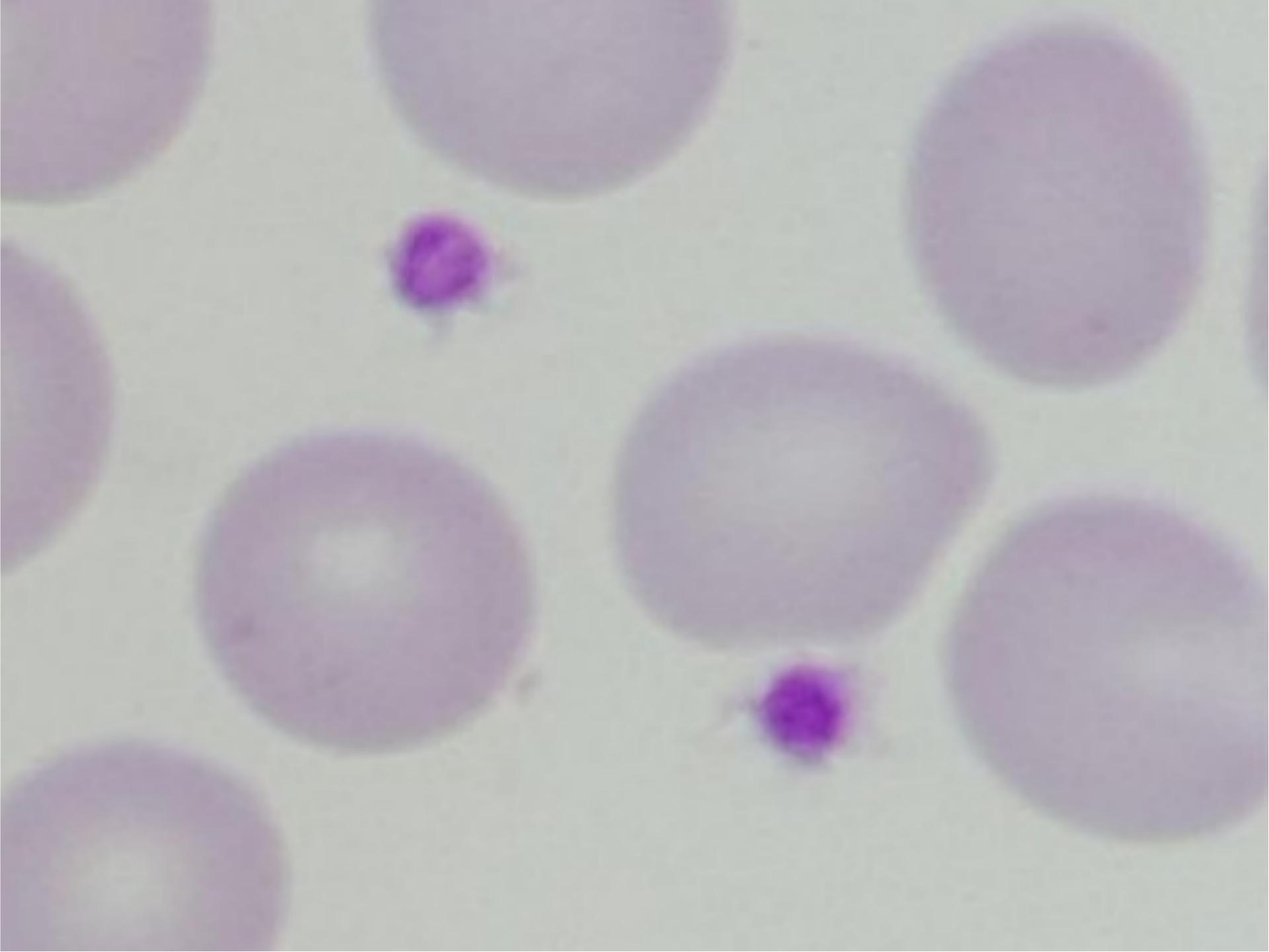Uninfected: (613, 336, 993, 651), (909, 23, 1217, 388), (950, 494, 1269, 846), (195, 435, 536, 758), (365, 0, 725, 199), (0, 739, 284, 952)
